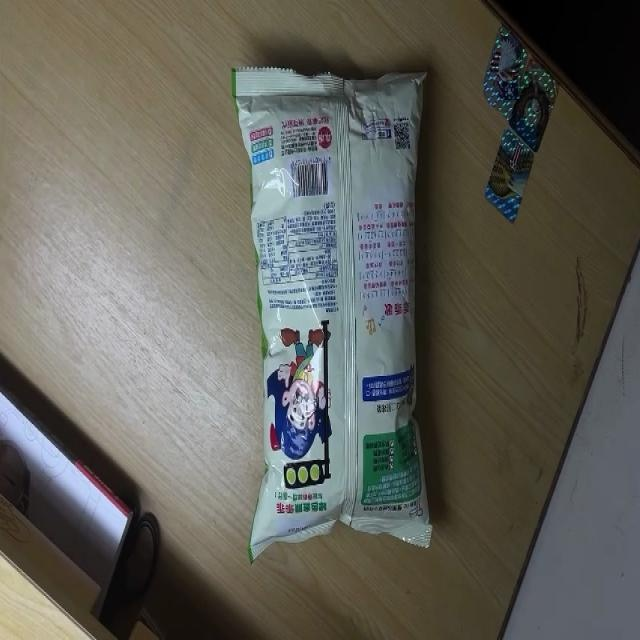Good-Luck: (231, 66, 434, 564)
